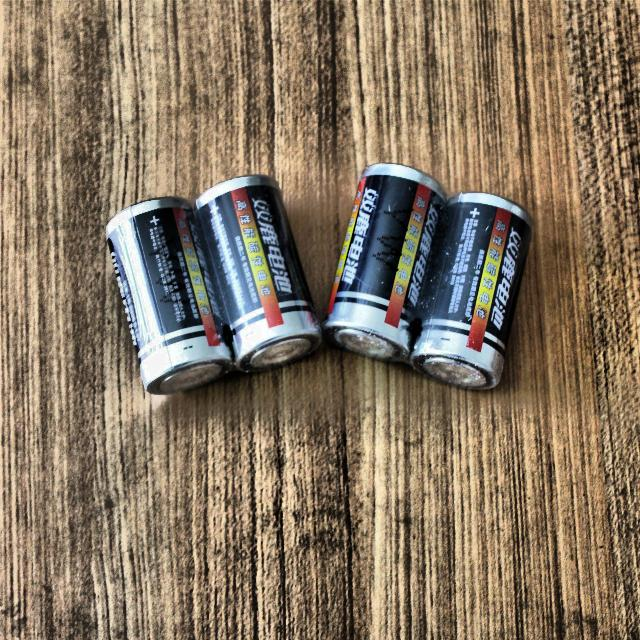Non-Valuable Waste - Batteries: (106, 198, 234, 394), (195, 175, 321, 372), (322, 164, 445, 361), (410, 193, 532, 388)
